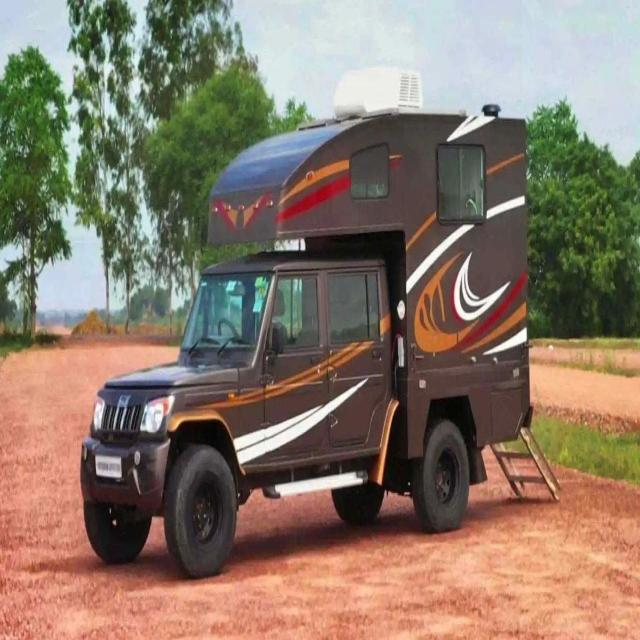light_vehicle: (82, 280, 394, 548)
